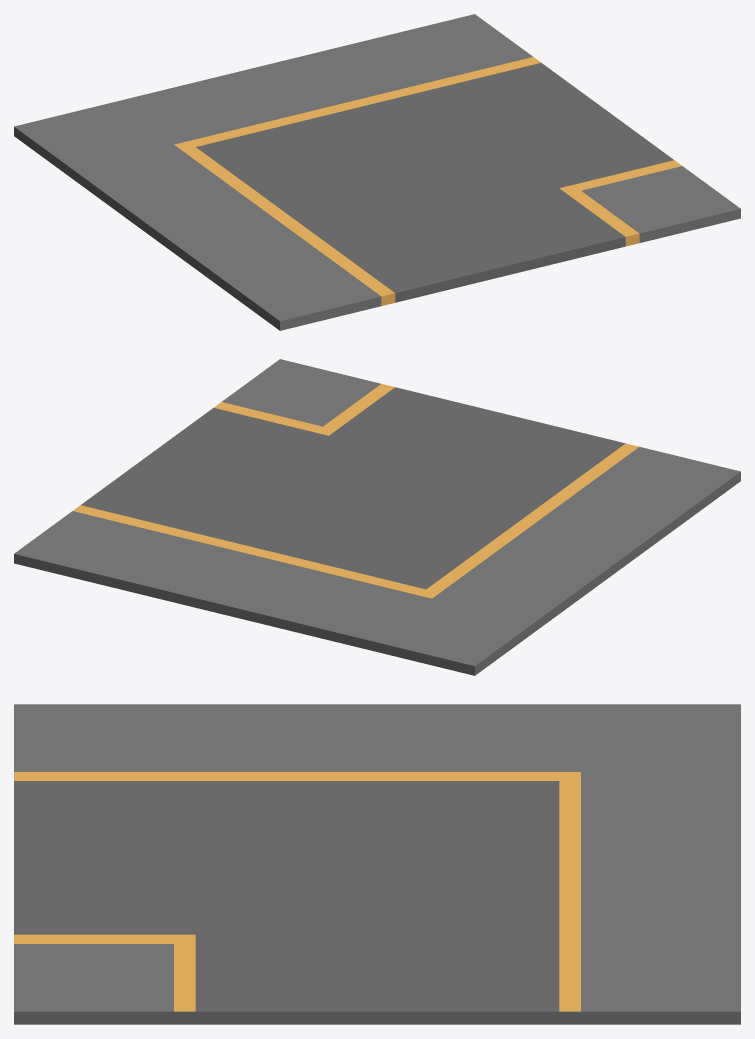
File: Floor_07.fbx
3 renders of one model, top to bottom at view 1: azimuth 30°, elevation 25°; view 2: azimuth 150°, elevation 25°; view 3: azimuth 270°, elevation 25°, orthographic. The views are drawn at different scales.
Visible parts, largest first — view 1: Floor_07; view 2: Floor_07; view 3: Floor_07.
Part boxes in pixels (box(x1,y1,x2,y2)): Floor_07: box(14, 14, 740, 330); Floor_07: box(14, 359, 740, 675); Floor_07: box(14, 704, 740, 1024).
Bounding box in the file's own units: 500 × 10 × 500.
